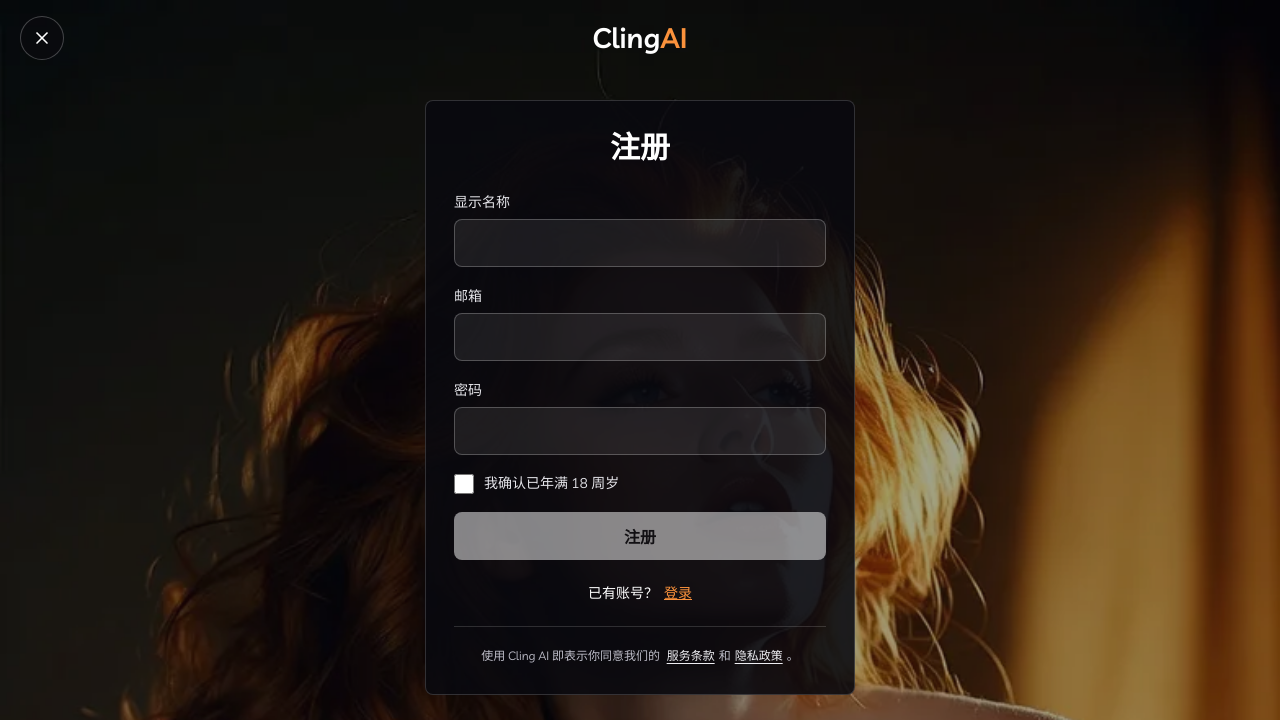
Test case: 认证页品牌布局与明确年龄确认 › localStorage 不可用时仍允许当次主动确认
This screenshot has width=1280, height=720.
Click the checkbox: click(464, 484) [454,474,474,494]
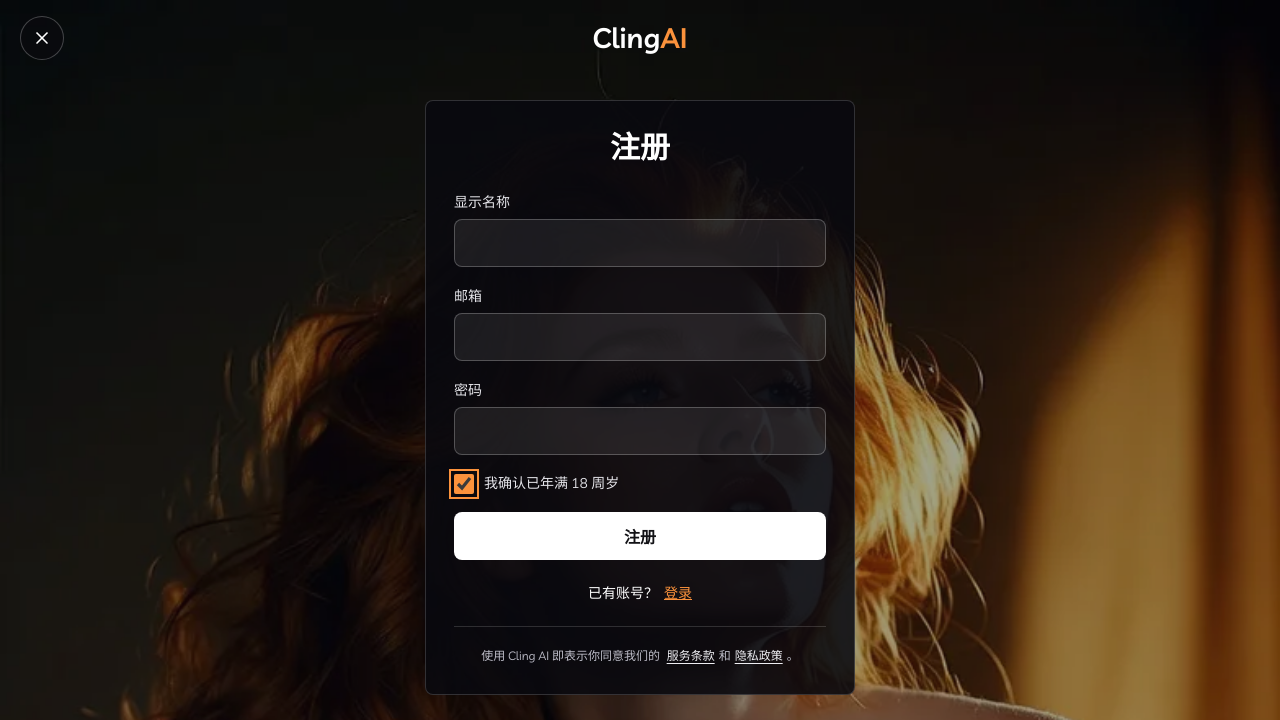
Now the checkbox is checked, box [454,474,474,494]
Now the button "注册" is enabled, box [454,512,826,560]
